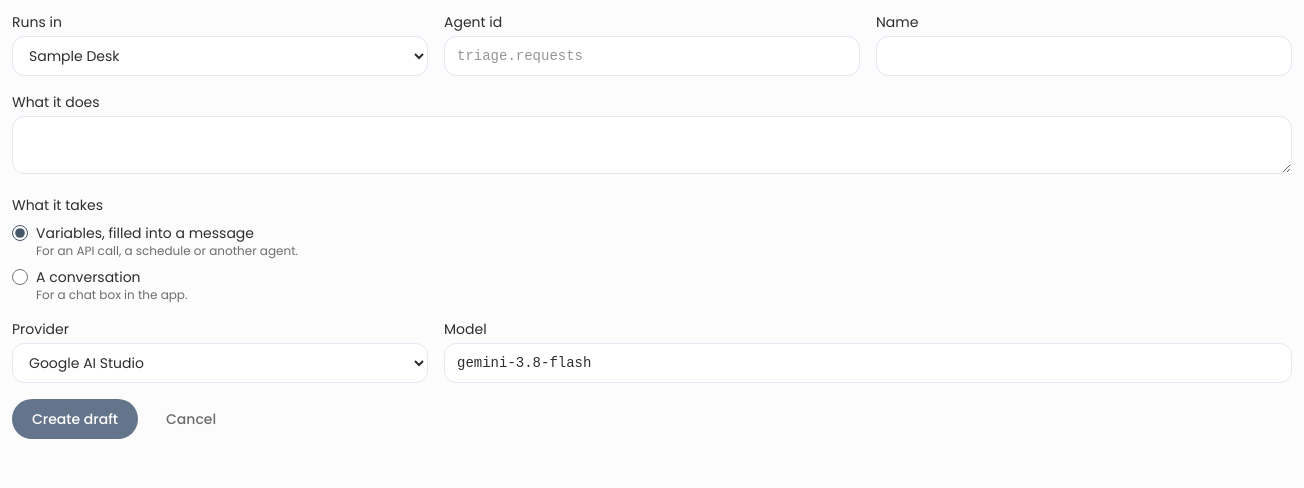
Test case: create agent: the default model is preselected; a patient-data project gets none
Expected: the field labelled "Model" holds "gemini-3.8-flash", [444,343,1292,383]
Select "Sample Clinic" in the dropdown labelled "Runs in" at (220, 56), box [12,36,428,76]
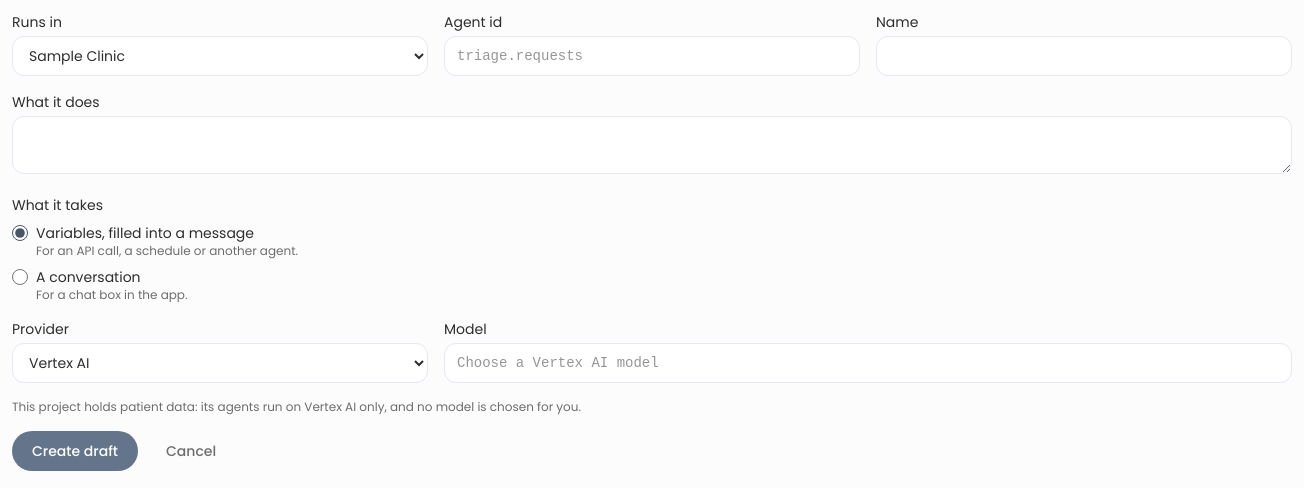
Expected: the field labelled "Model" is empty, [444,343,1292,383]
Select "Startup OS (runs here)" in the dropdown labelled "Runs in" at (220, 56), box [12,36,428,76]
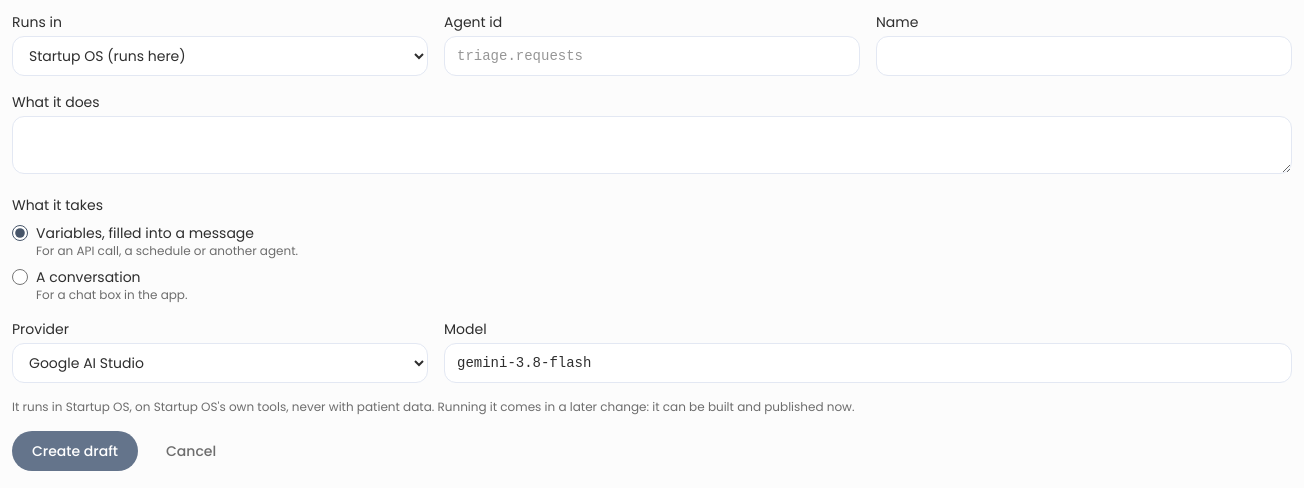
Expected: the field labelled "Model" holds "gemini-3.8-flash", [444,343,1292,383]
